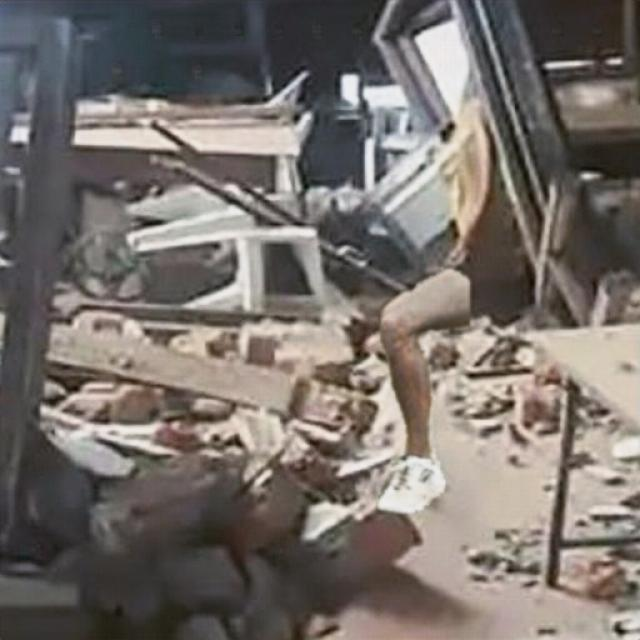Person in Rubble: (376, 267, 469, 514)
